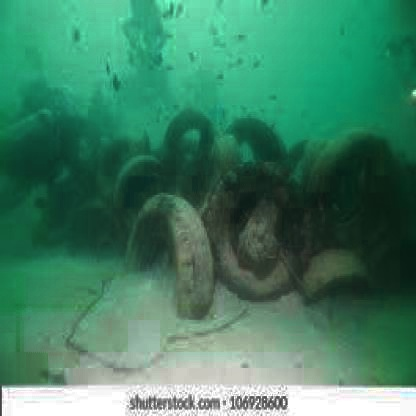tire: (200, 151, 324, 318), (130, 191, 232, 331), (322, 123, 402, 265), (165, 101, 234, 208), (226, 105, 294, 184), (107, 149, 166, 236)
